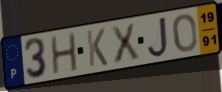3: (24, 36, 49, 81)
H: (49, 31, 80, 77)
J: (146, 15, 170, 60)
K: (85, 27, 109, 68)
O: (171, 12, 199, 54)
X: (109, 22, 142, 66)
